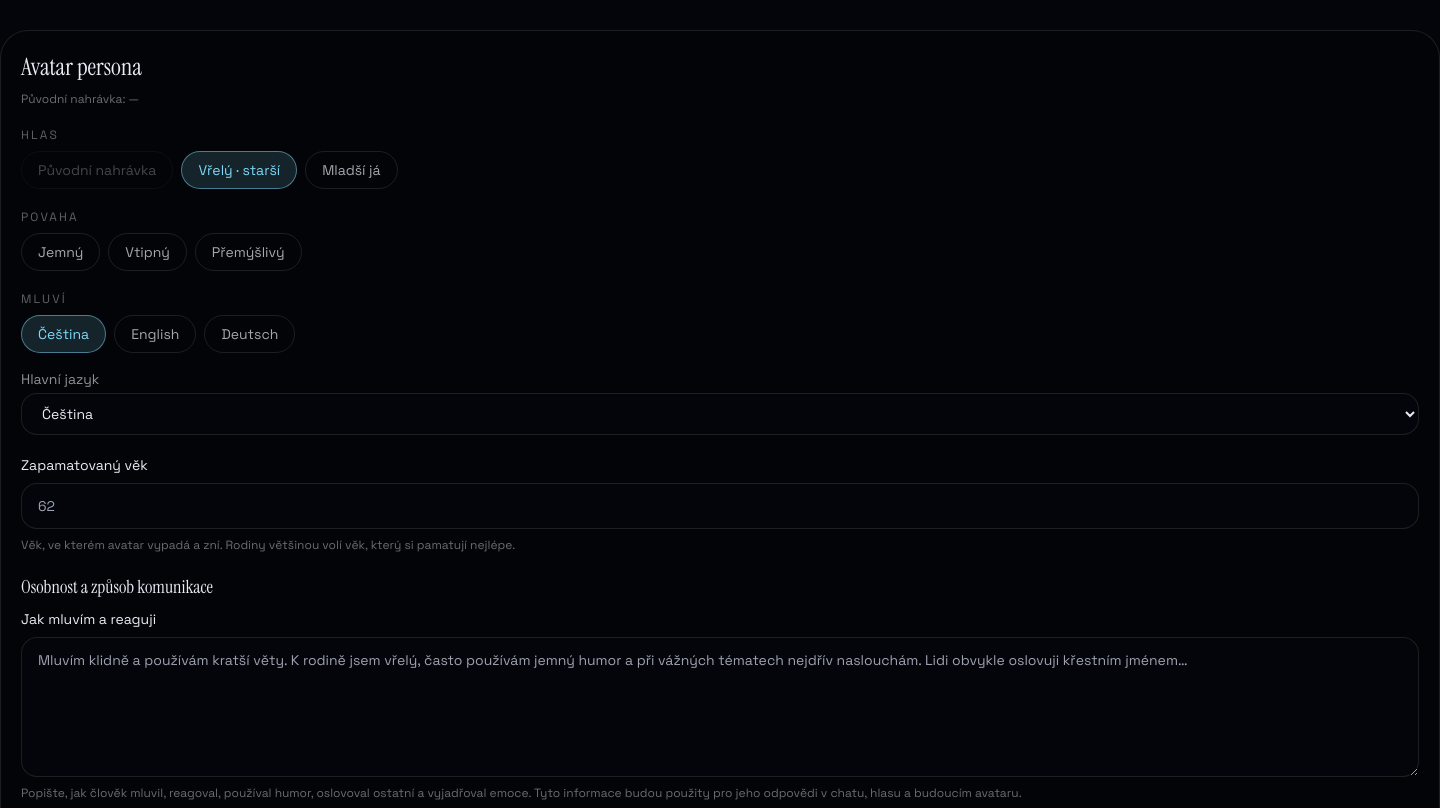
AvatarPersonaPanel › shows character count for communication profile
Replace the text in the text box with placeholder "Mluvím klidně a používám kratší věty" with "abc". click: (720, 707)
box: [21, 637, 1419, 777]
(page scrolled)
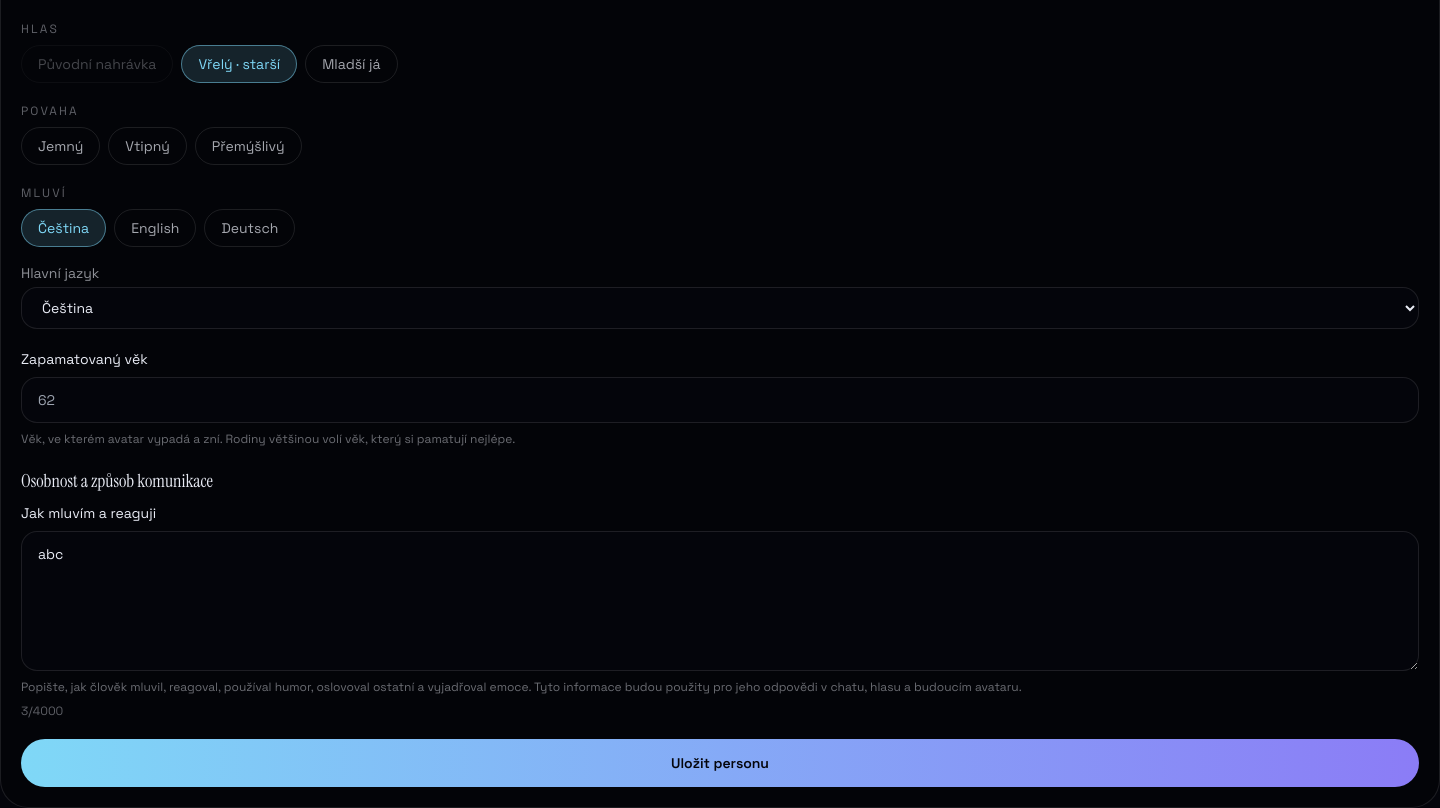
expect the text "3/4000" is shown: met, box [21, 703, 63, 719]
